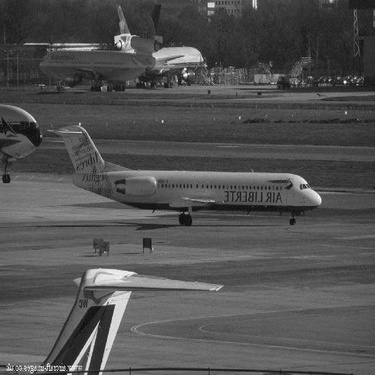airplane: (33, 115, 338, 244), (19, 254, 251, 371), (29, 2, 171, 101), (128, 2, 211, 82), (1, 94, 47, 197)
